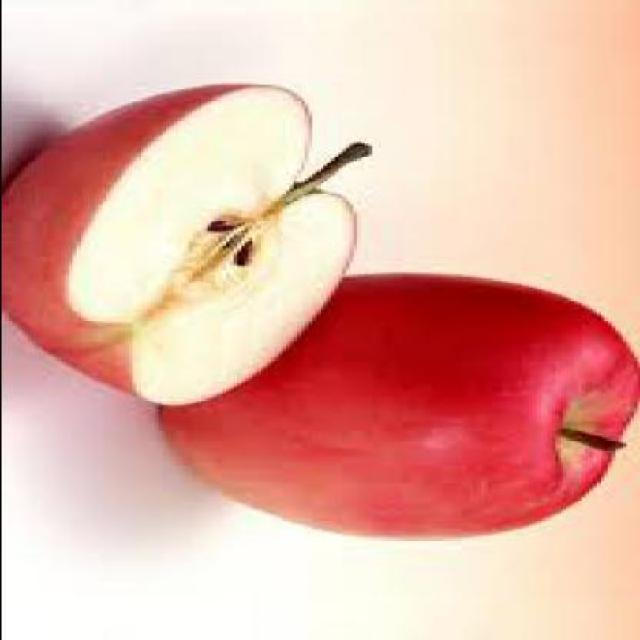BIODEGRADABLE: (160, 275, 640, 542), (6, 85, 372, 408)
